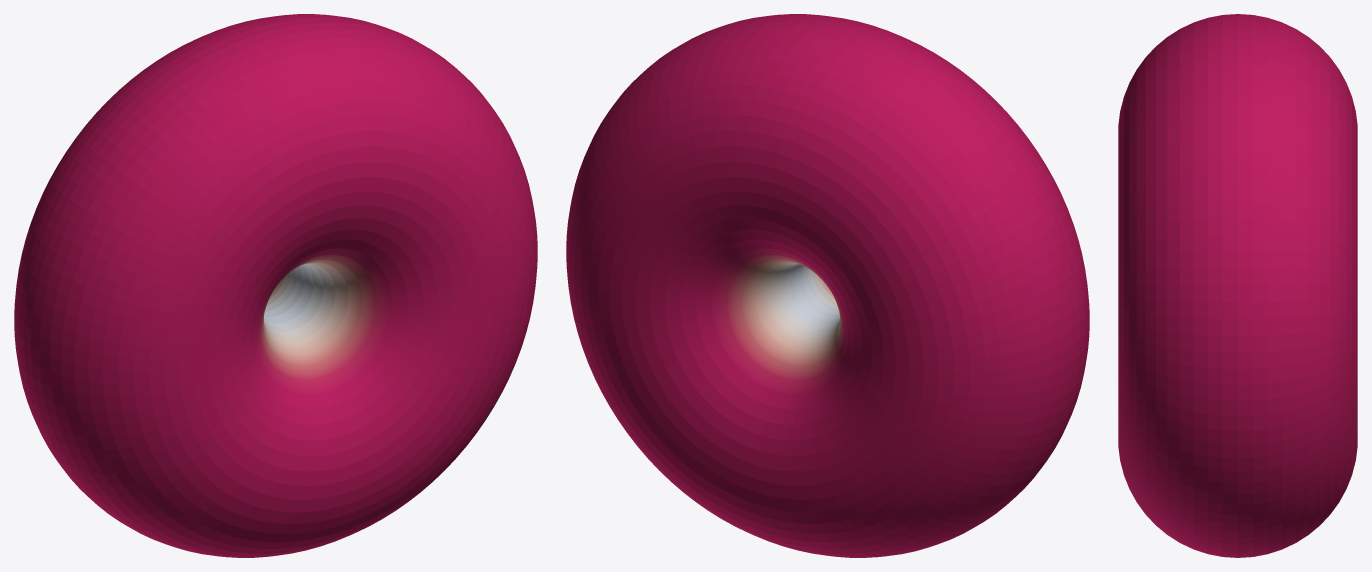
3 renders of one model, left to right at view 1: azimuth 30°, elevation 25°; view 2: azimuth 150°, elevation 25°; view 3: azimuth 270°, elevation 25°, orthographic. The views are drawn at different scales.
Parts seen in each view (by area): view 1: world; view 2: world; view 3: world.
Boxes of the visible parts, left/top/right/bottom form: world: left=14, top=14, right=537, bottom=557; world: left=566, top=14, right=1089, bottom=557; world: left=1118, top=14, right=1357, bottom=557.
Bounding box in the file's own units: 22.67 × 22.67 × 9.98.
